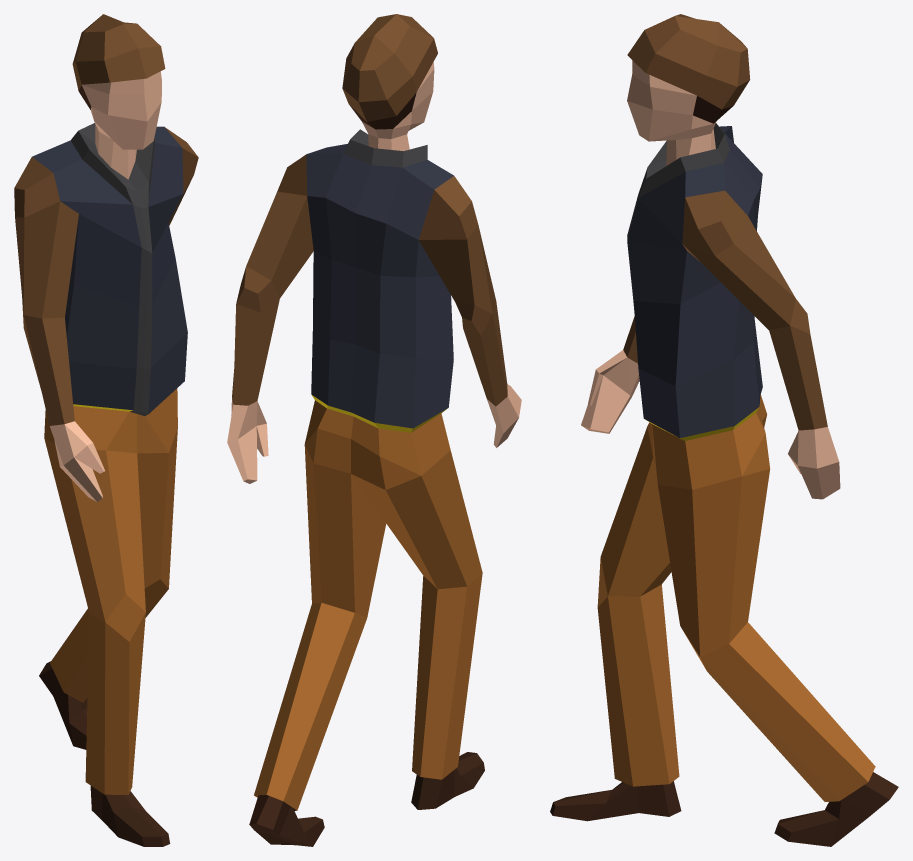
Rendered from AutumnManB.004.glb.
The picture shows the model from 3 angles, left to right: view 1: azimuth 30°, elevation 25°; view 2: azimuth 150°, elevation 25°; view 3: azimuth 270°, elevation 25°; orthographic projection. The views are drawn at different scales.
Parts seen in each view (by area): view 1: AutumnManB.004; view 2: AutumnManB.004; view 3: AutumnManB.004.
Boxes of the visible parts, x1,y1,x2,y2 form: AutumnManB.004: [14, 14, 198, 846]; AutumnManB.004: [227, 14, 521, 846]; AutumnManB.004: [550, 14, 898, 846].
Bounding box in the file's own units: 0.4581 × 1.74 × 0.6807.
Materials: 1 (1 with a texture image).
